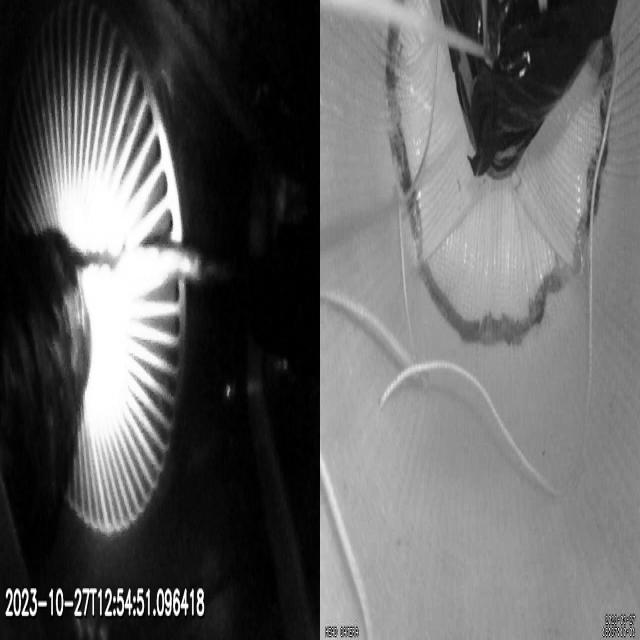red-circle: (385, 0, 616, 349)
